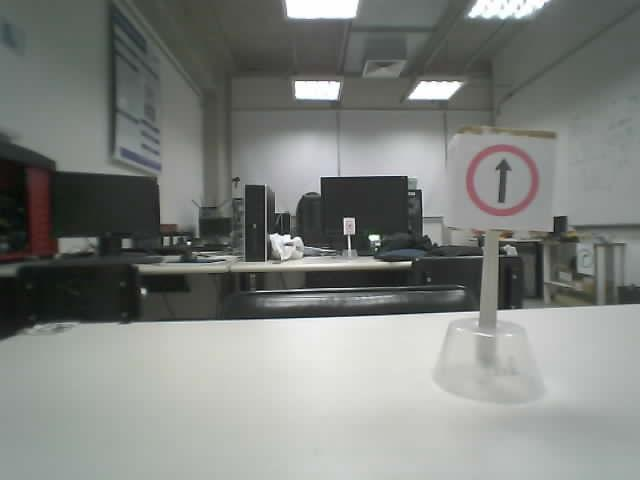R-26_frente: (464, 143, 538, 215)
